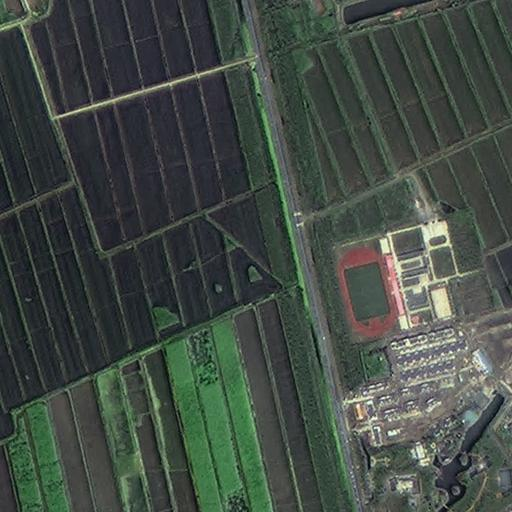school: (332, 216, 459, 343)
